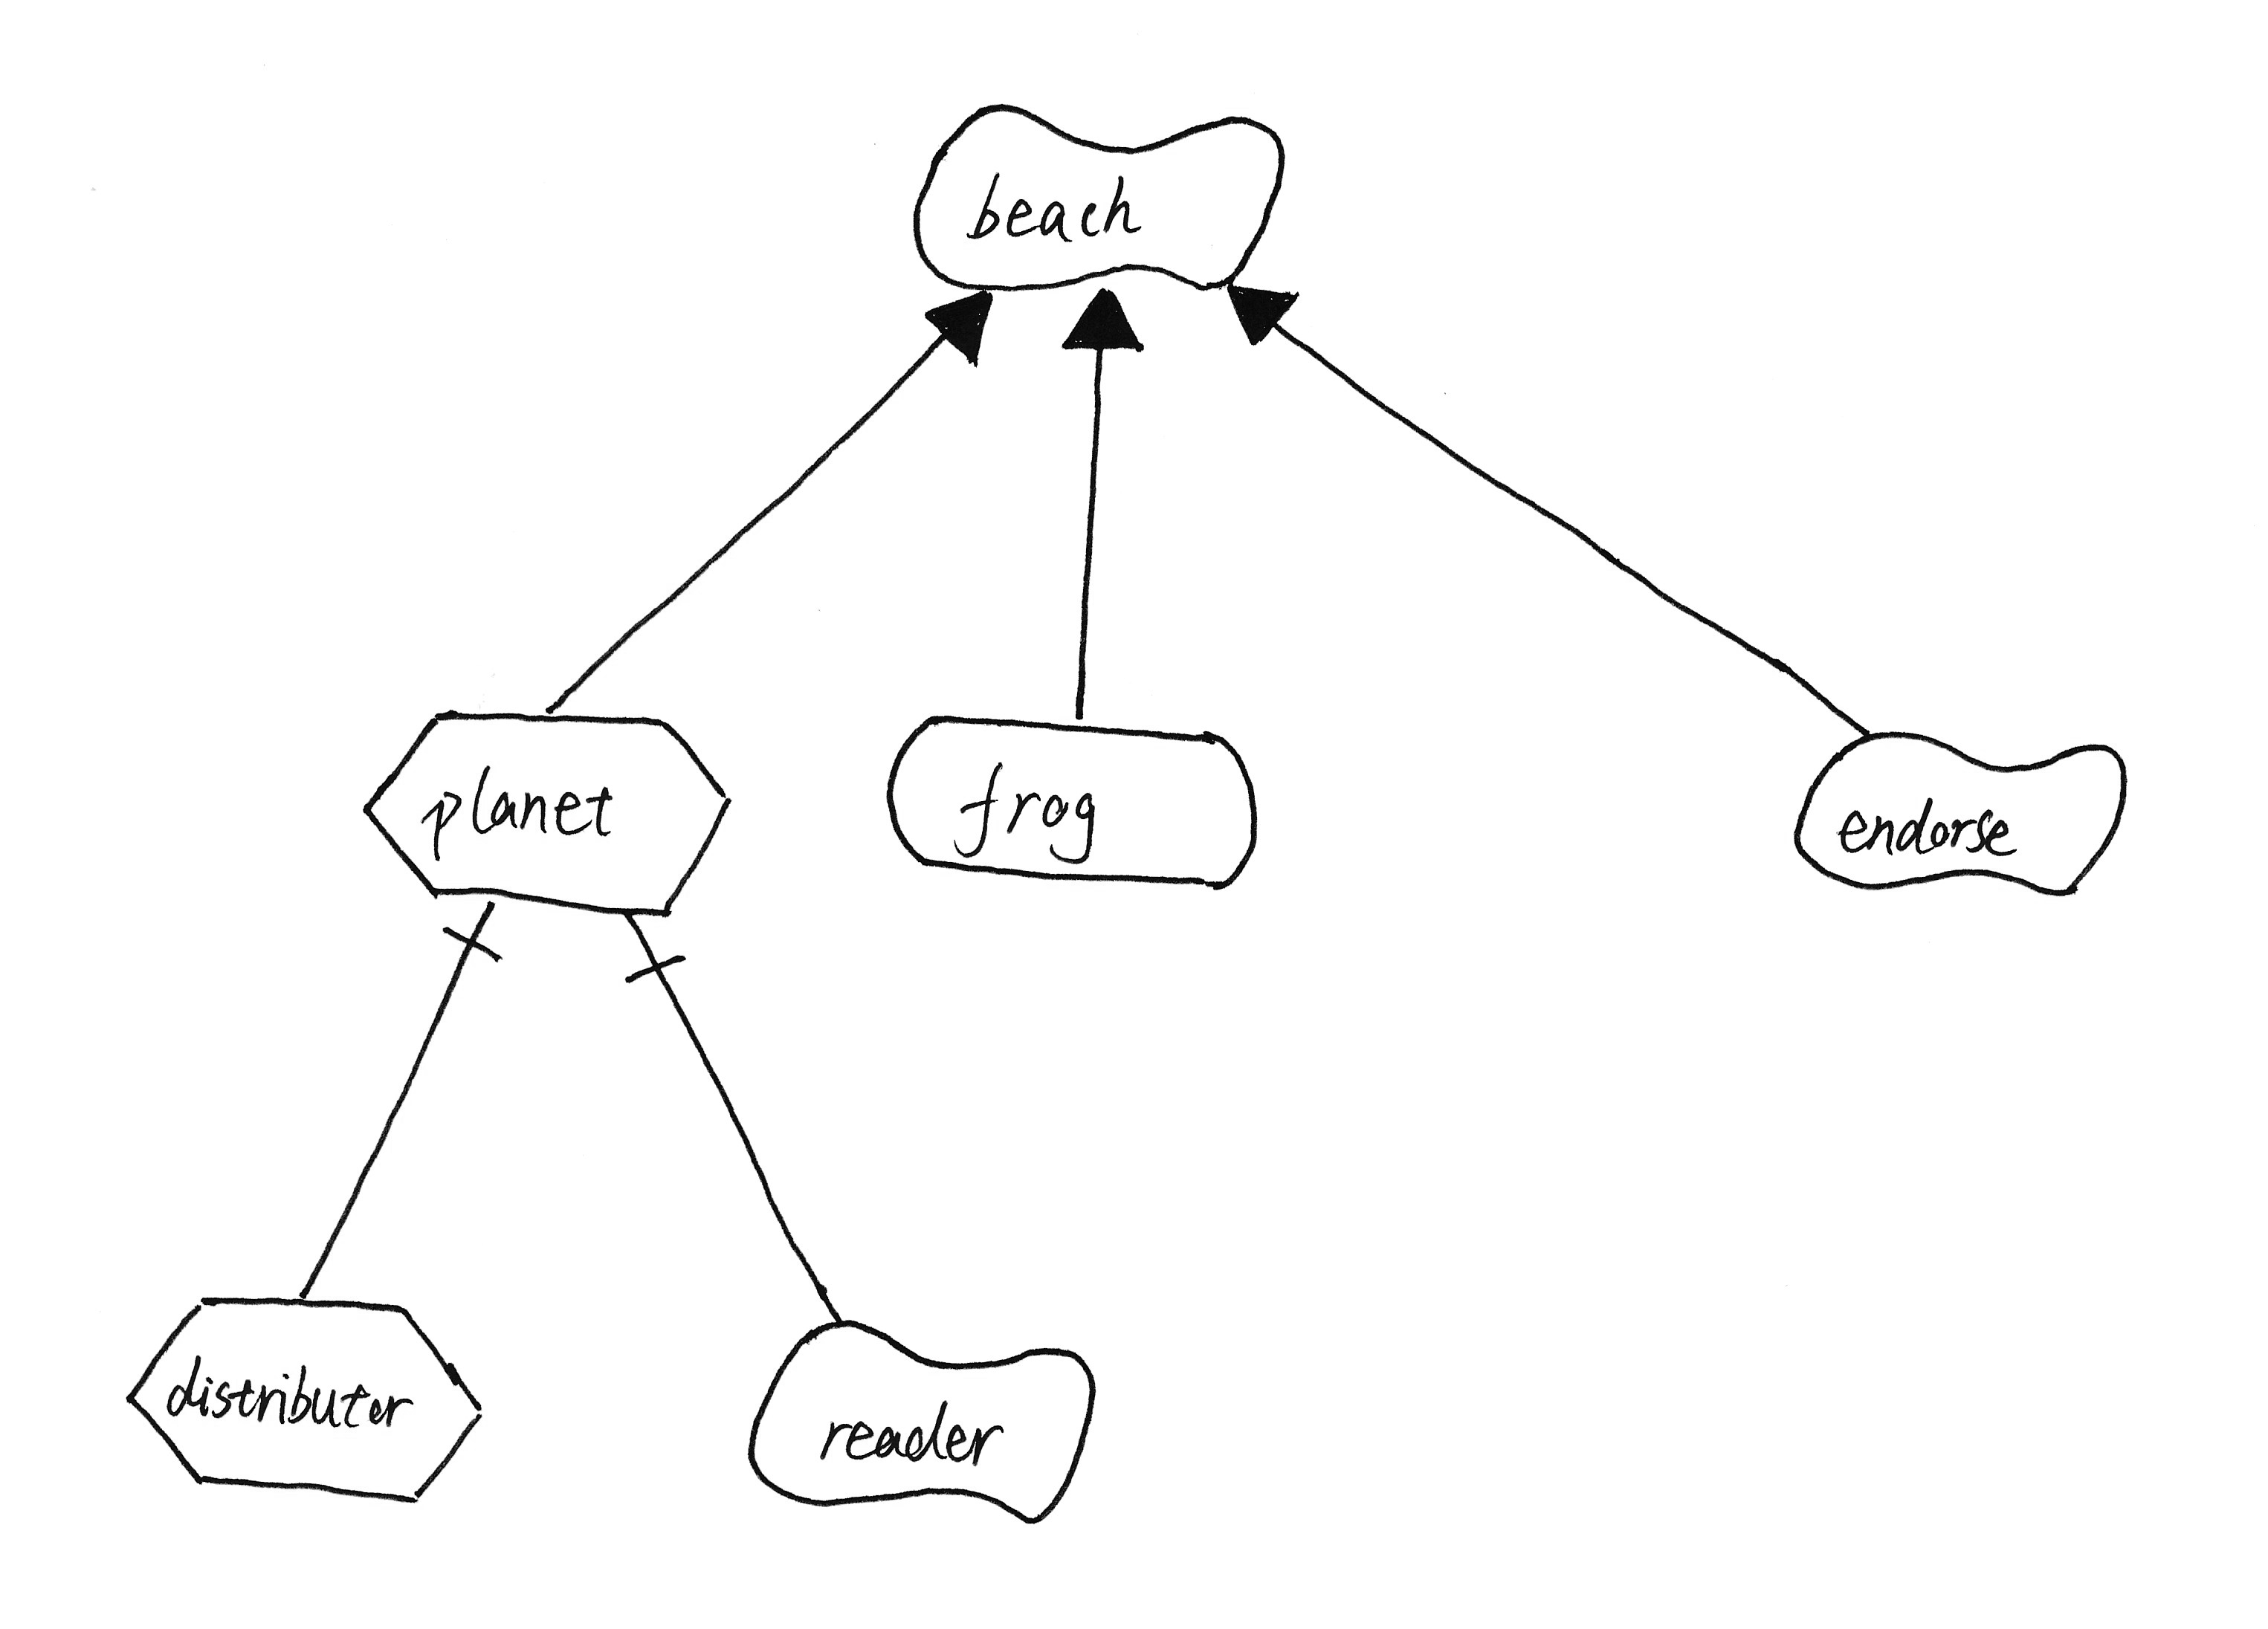and: (606, 928, 710, 1006), (433, 900, 512, 984)
goal: (873, 694, 1270, 910)
or: (1055, 282, 1160, 368), (917, 280, 1007, 375), (1213, 276, 1310, 357)
quality: (895, 81, 1296, 305), (729, 1305, 1106, 1541), (1784, 711, 2141, 914)
task: (111, 1272, 500, 1522), (340, 694, 748, 930)
